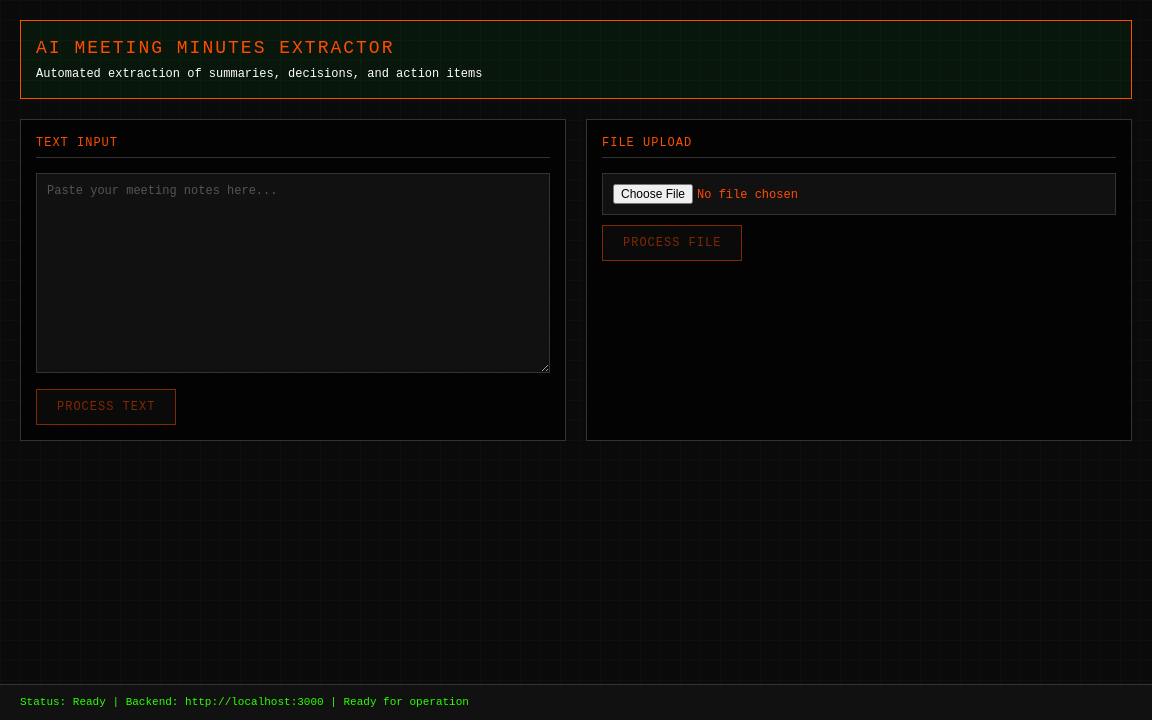
Test: App Component › Text Input Functionality › enables process button when text is entered
Check: the button "Process Text" is disabled, box [36,389,176,425]
Type "Test meeting notes" into the text box with placeholder "Paste your meeting notes here..." at (293, 273), box [36,173,550,373]
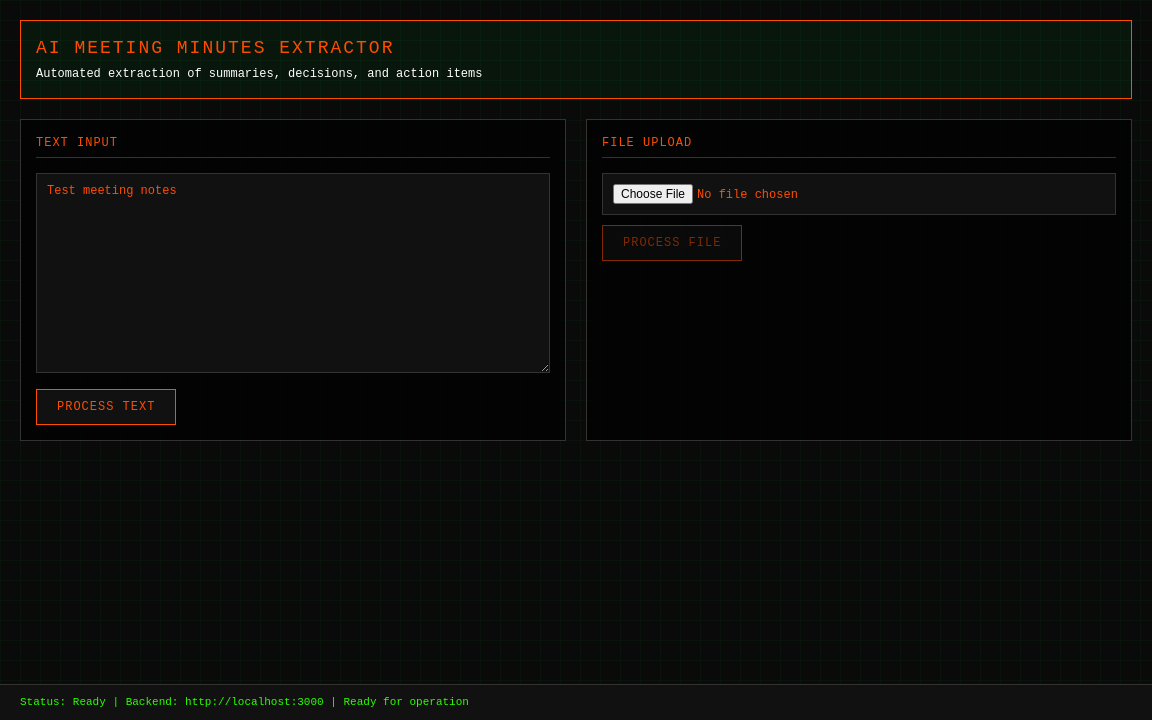
Check: the button "Process Text" is enabled, box [36,389,176,425]
